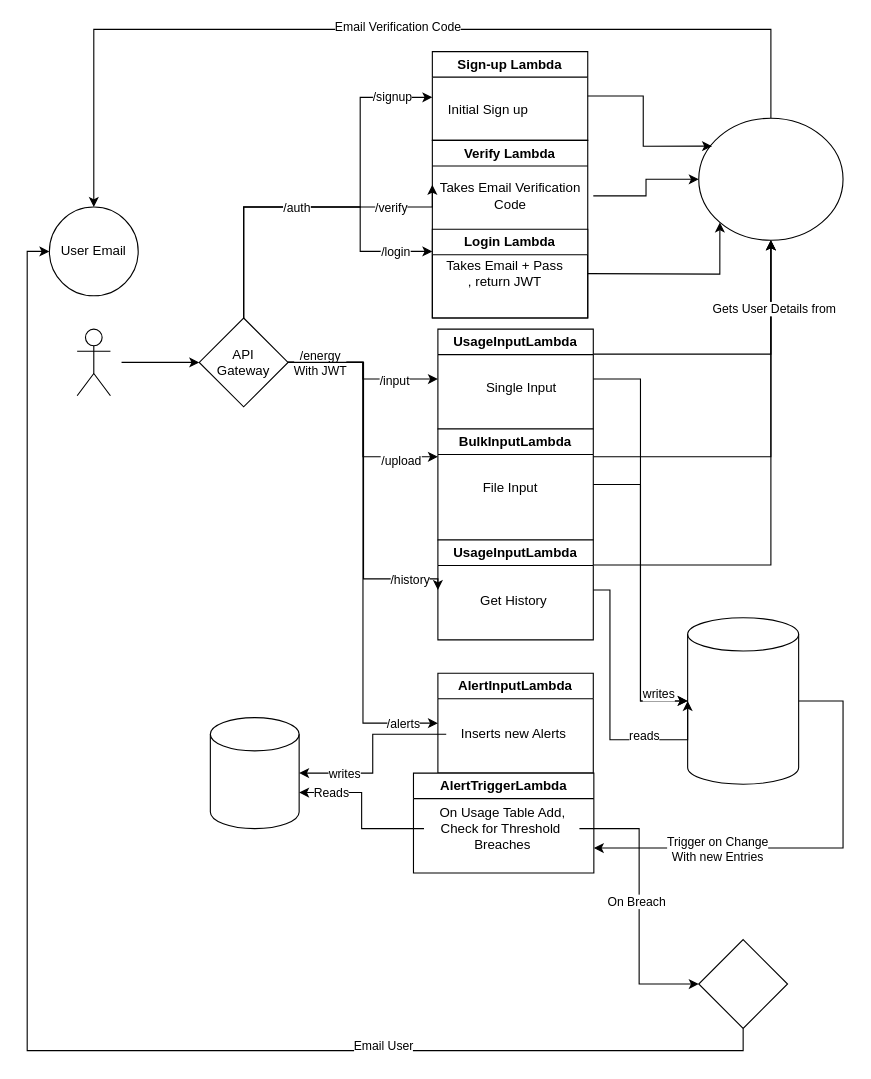
Image size: 871x1079. Some labels were removed from this diagram. The centre of each missing label's shape, as x and y in pixels:
Actor: the point at 93,362
AlertTable userId(H) threshold(S): the point at 254,773
AlertTopic: the point at 743,983
ElecUser Cognito UserPool: the point at 770,178
UsageTable entryId(H) userId(H) timestamp(S) usage(S): the point at 743,700
